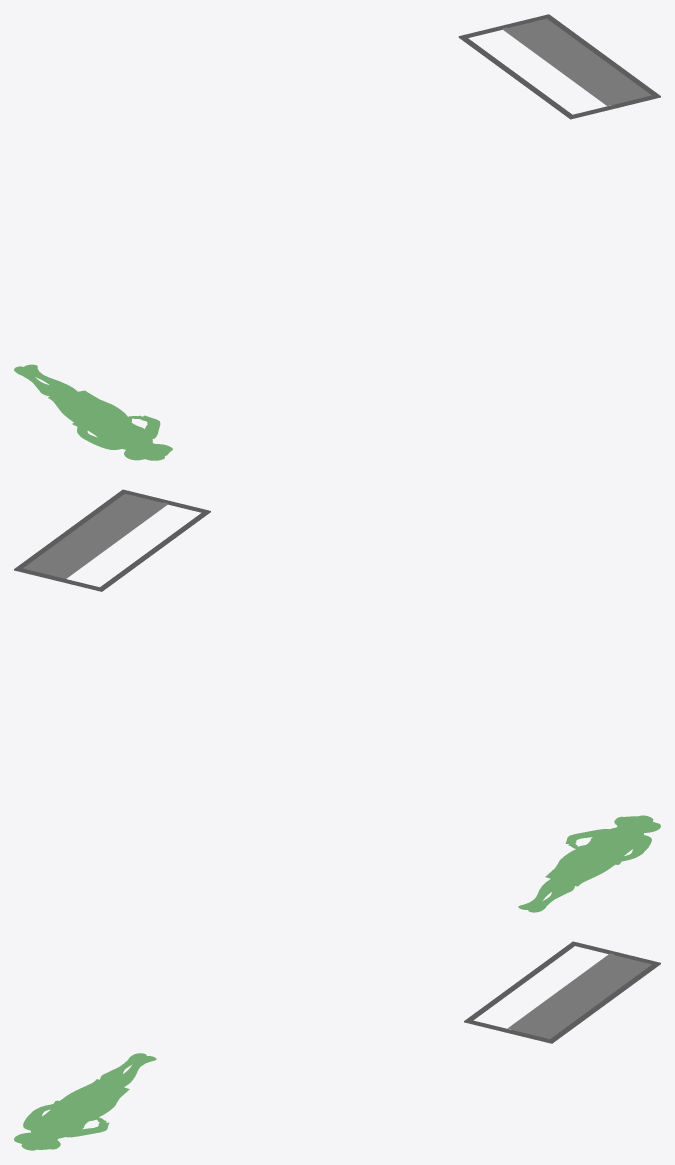
Rendered from sineklik.glb.
3 renders of one model, top to bottom at view 1: azimuth 30°, elevation 25°; view 2: azimuth 150°, elevation 25°; view 3: azimuth 330°, elevation 25°, orthographic. The views are drawn at different scales.
Parts seen in each view (by area): view 1: Teddy, SketchUp, group_0; view 2: Teddy, SketchUp, group_0; view 3: Teddy, SketchUp, group_0.
Boxes of the visible parts, left/top/right/bottom form: Teddy: left=14, top=364, right=172, bottom=460; SketchUp: left=503, top=18, right=651, bottom=106; group_0: left=458, top=14, right=660, bottom=119; Teddy: left=518, top=815, right=660, bottom=912; SketchUp: left=23, top=494, right=167, bottom=578; group_0: left=14, top=489, right=210, bottom=591; Teddy: left=14, top=1053, right=156, bottom=1150; SketchUp: left=507, top=953, right=651, bottom=1038; group_0: left=464, top=941, right=660, bottom=1043.
Size of the model in its own units: 169 by 65.02 by 69.25.
